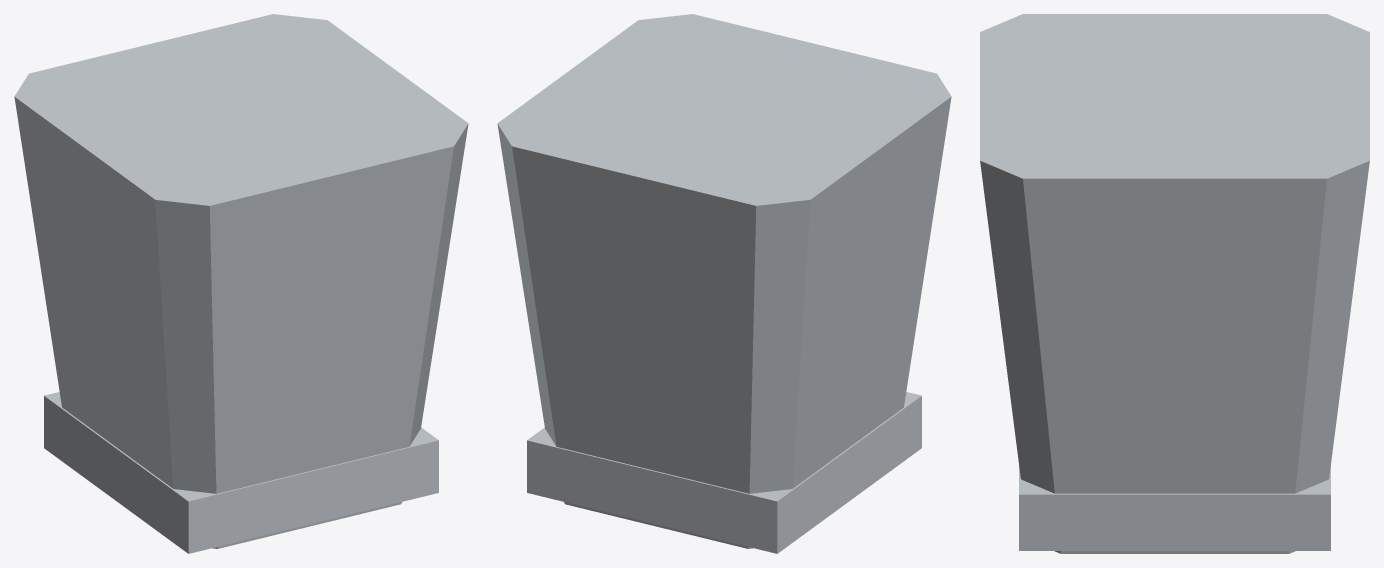
The model's file is npc_crew_lower_arm.fbx.
3 renders of one model, left to right at view 1: azimuth 30°, elevation 25°; view 2: azimuth 150°, elevation 25°; view 3: azimuth 270°, elevation 25°, orthographic. The views are drawn at different scales.
Parts seen in each view (by area): view 1: npc_crew_lower_arm; view 2: npc_crew_lower_arm; view 3: npc_crew_lower_arm.
Part boxes in pixels (x1,y1,x2,y2): npc_crew_lower_arm: (14, 14, 468, 553); npc_crew_lower_arm: (497, 14, 951, 553); npc_crew_lower_arm: (980, 14, 1369, 553).
Bounding box in the file's own units: 100 × 112 × 100.
